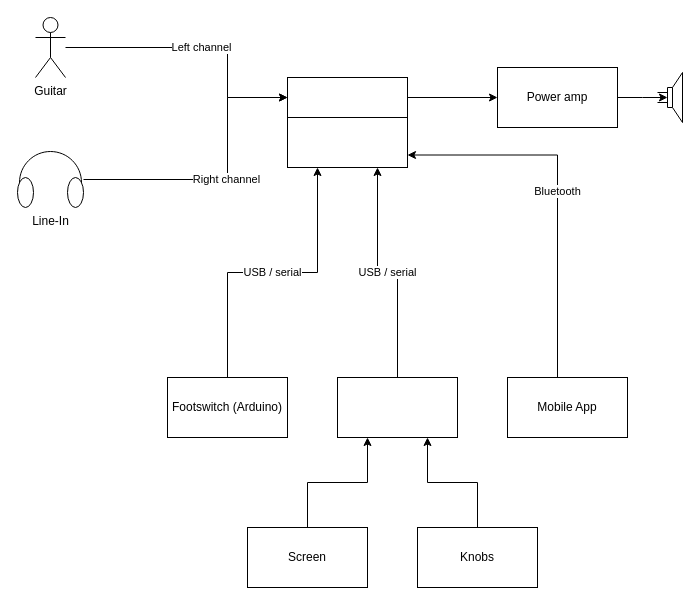
This 700x605 diagram has some shape labels left out. Each missing label, with the box of its shape:
Hifiberry DAC+ ADC: (286, 76, 408, 118)
Raspberry PI 4: (286, 116, 408, 168)
Screen + Knob controls (Arduino mega): (336, 376, 458, 438)
